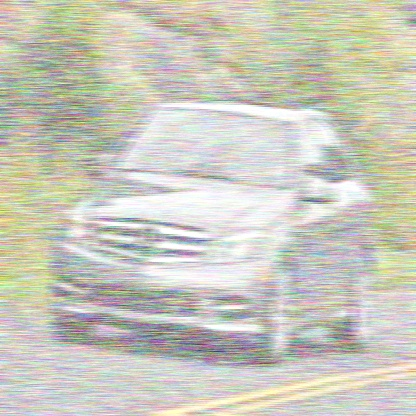Vehicle: (51, 99, 377, 372)
